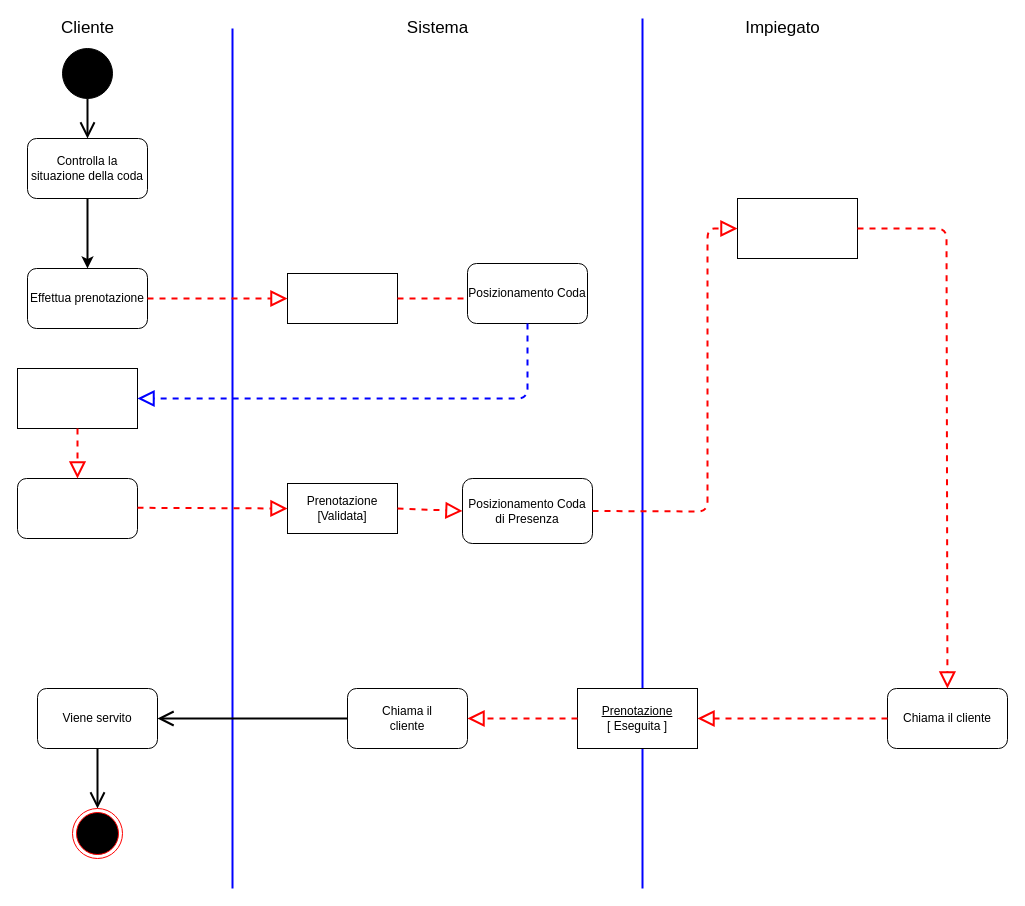
Some shapes in this 1025 by 906 pixel diagram are drawn without their labels. The shapes that lost their labels are listed below. From the top down, each one's centre as x and y in pixels, then its label:
pixel 797 228: Prenotazione [ Da Accettare ]
pixel 342 298: Prenotazione [ In valutazione ]
pixel 77 398: Biglietto Prenotazione
pixel 77 508: Convalida Prenotazione Totem
